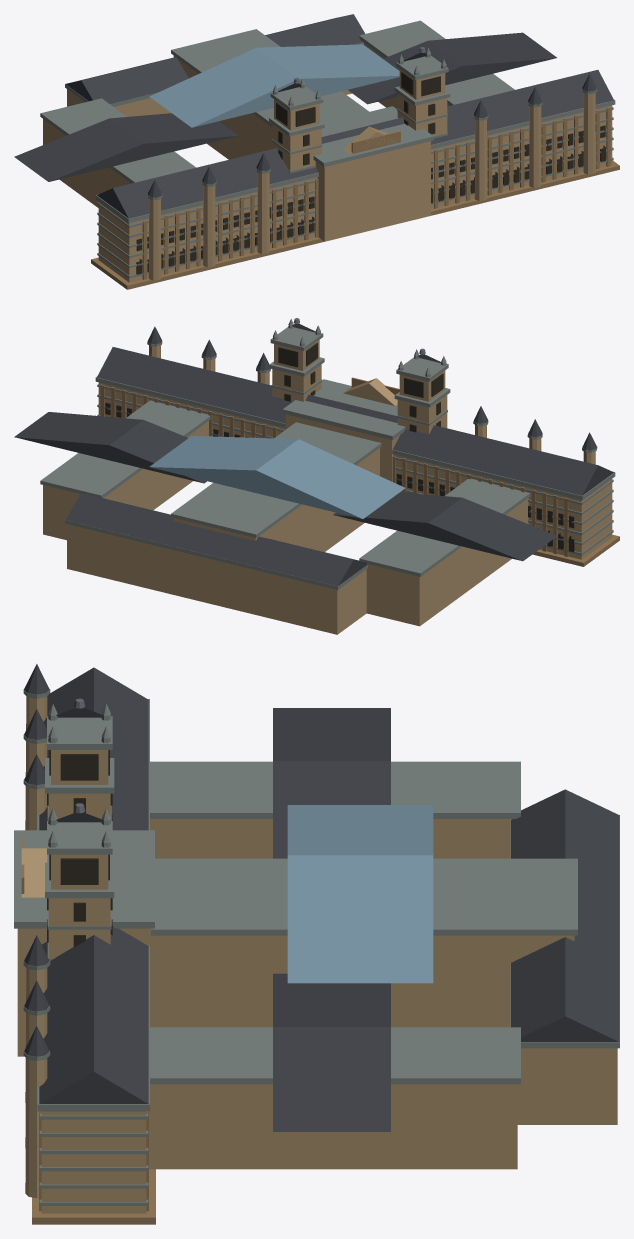
File: natural_history_museum.glb
3 views of the same model, one above another, from view 1: azimuth 30°, elevation 25°; view 2: azimuth 150°, elevation 25°; view 3: azimuth 270°, elevation 25° (orthographic). The views are drawn at different scales.
Visible parts, largest first — view 1: natural_history_museum; view 2: natural_history_museum; view 3: natural_history_museum.
Boxes of the visible parts, <box> form: natural_history_museum: <box>14,14,619,289</box>; natural_history_museum: <box>14,318,619,634</box>; natural_history_museum: <box>14,664,619,1224</box>.
Bounding box in the file's own units: 211 × 61.8 × 127.
